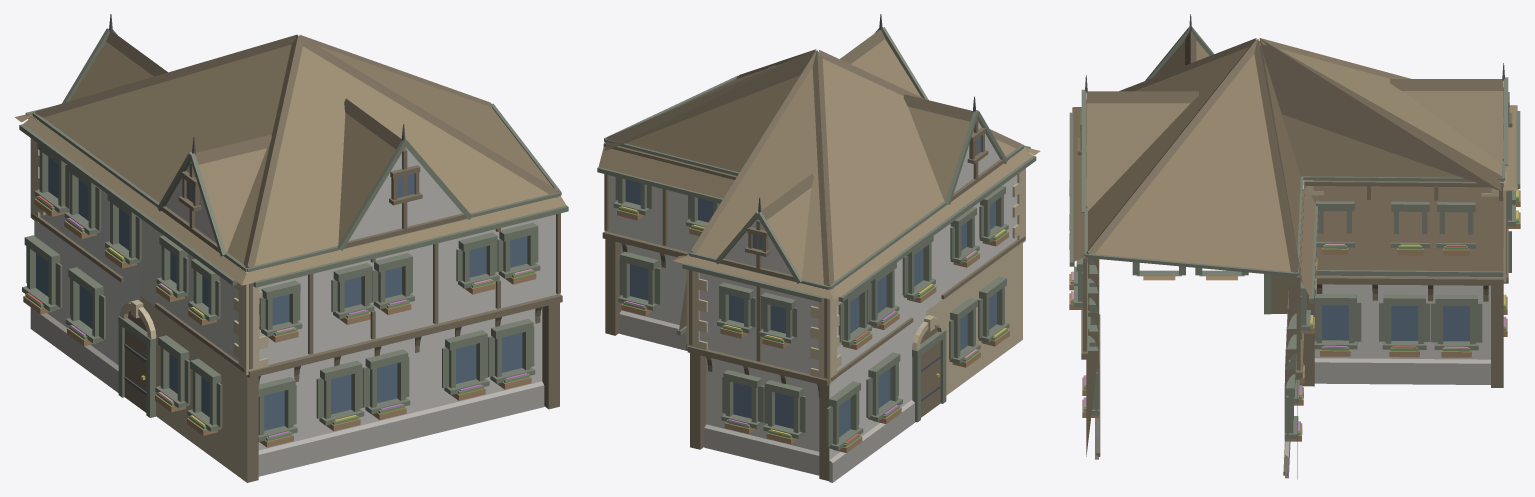
The picture shows the model from 3 angles, left to right: view 1: azimuth 30°, elevation 25°; view 2: azimuth 150°, elevation 25°; view 3: azimuth 270°, elevation 25°; orthographic projection. The views are drawn at different scales.
Parts seen in each view (by area): view 1: B137_visible; view 2: B137_visible; view 3: B137_visible.
Part boxes in pixels (<box>): B137_visible: <box>15,14,568,482</box>; B137_visible: <box>597,14,1040,482</box>; B137_visible: <box>1069,14,1520,479</box>.
Size of the model in its own units: 12.39 by 11.27 by 13.4.
